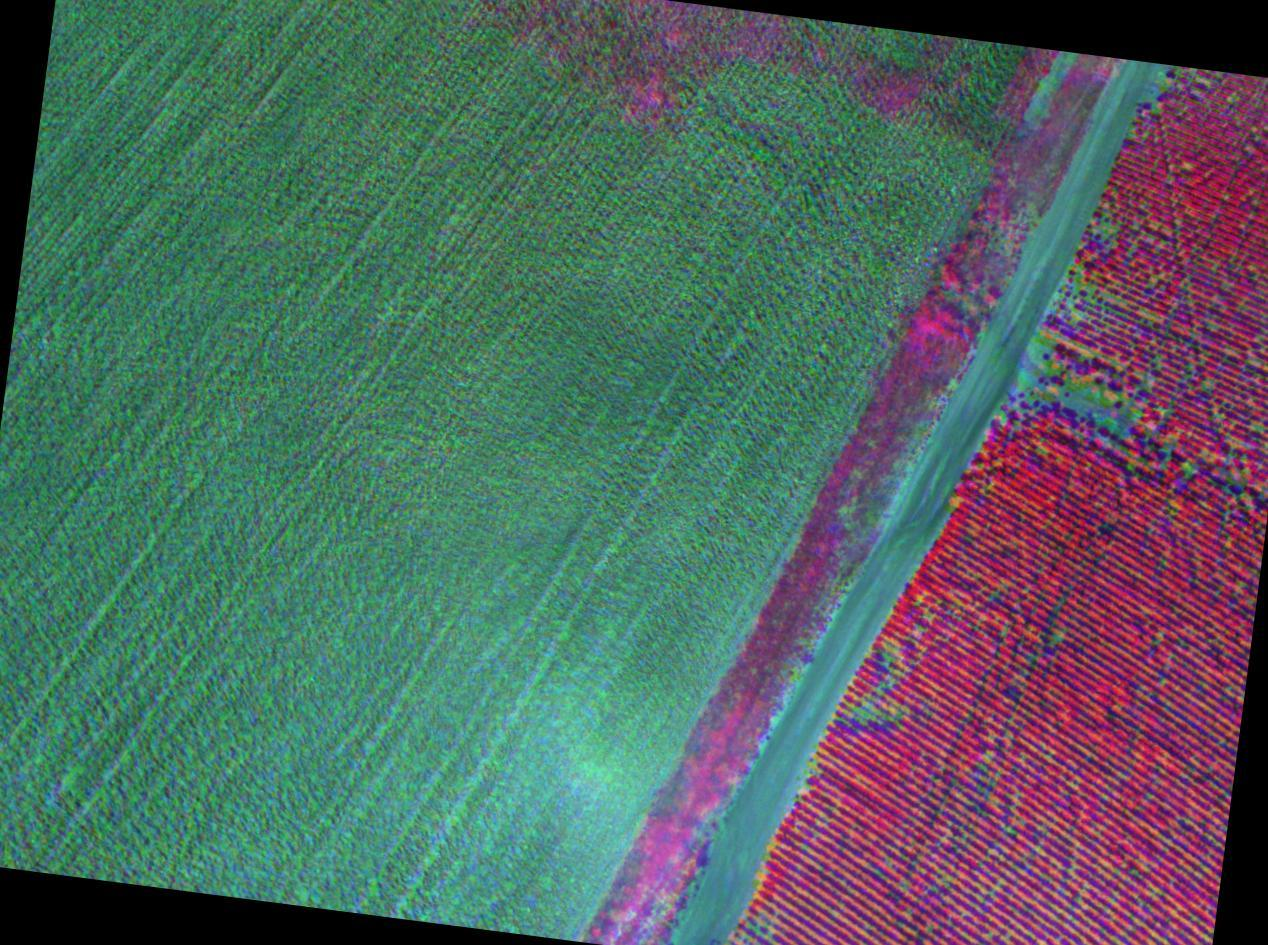dc: (860, 711, 865, 716), (1075, 284, 1078, 288), (1185, 464, 1188, 468), (755, 927, 758, 931), (988, 934, 991, 937)
